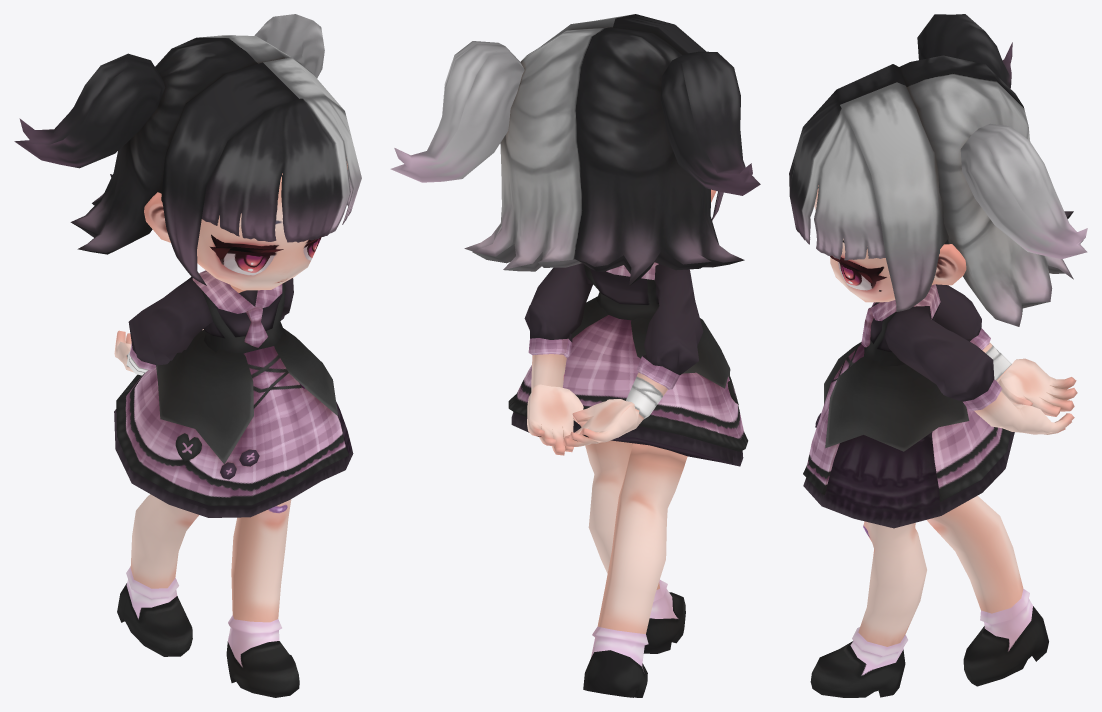
The model's file is -_landmine_girl.glb.
The picture shows the model from 3 angles, left to right: view 1: azimuth 30°, elevation 25°; view 2: azimuth 150°, elevation 25°; view 3: azimuth 270°, elevation 25°; orthographic projection. The views are drawn at different scales.
Visible parts, largest first — view 1: pCylinder4; view 2: pCylinder4; view 3: pCylinder4.
Boxes of the visible parts, x1=… form: pCylinder4: x1=14, y1=14, x2=361, y2=697; pCylinder4: x1=390, y1=14, x2=760, y2=697; pCylinder4: x1=789, y1=14, x2=1087, y2=697.
Size of the model in its own units: 0.0561 by 0.1052 by 0.0447.
2 materials, 2 textured.
